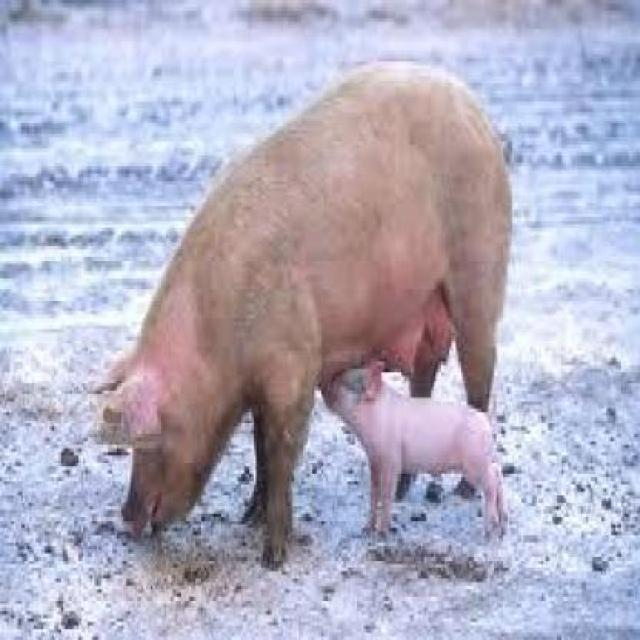wildboar: (82, 53, 520, 576), (317, 350, 508, 570)
